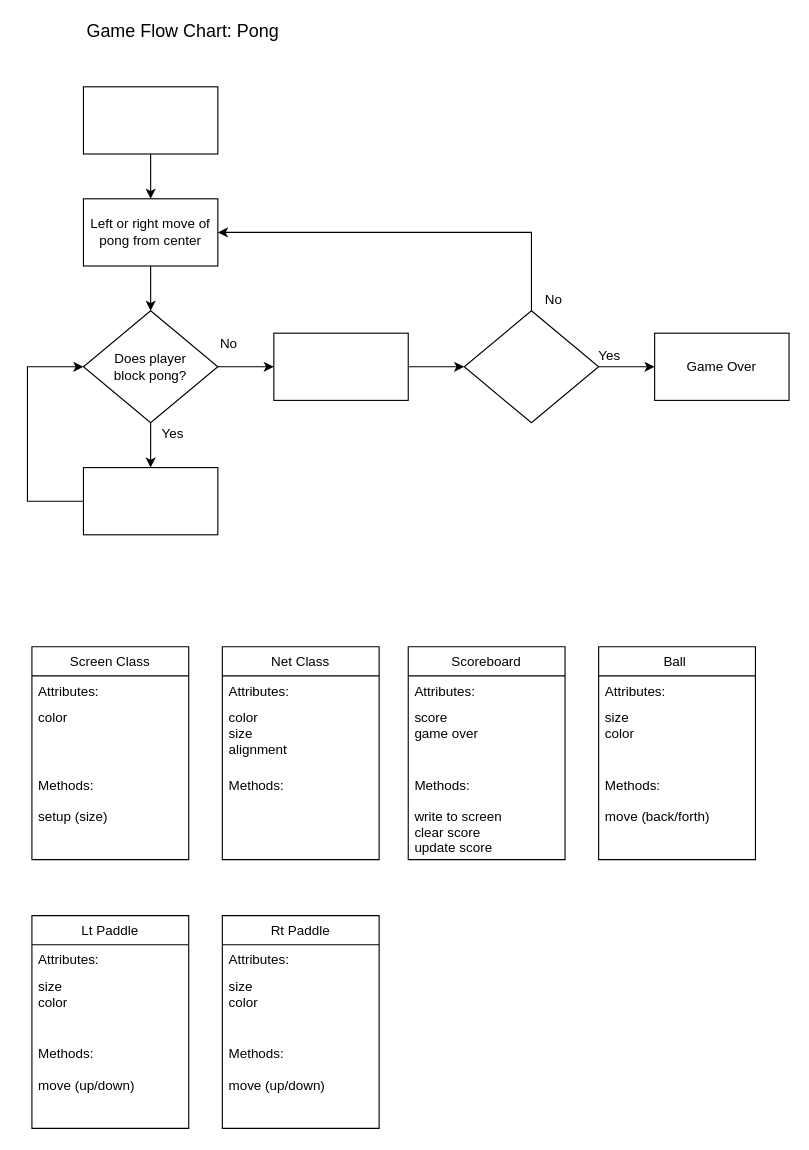
This 809x1150 diagram has some shape labels left out. The shapes that lost their labels are listed below. From the top down, each one's centre as x and y in pixels, then its label:
At (x=150, y=120): "START".
At (x=340, y=366): "Offensive player scores".
At (x=531, y=366): "Is score 10 for player?".
At (x=150, y=500): "Pong moves to opposite side of screen".
